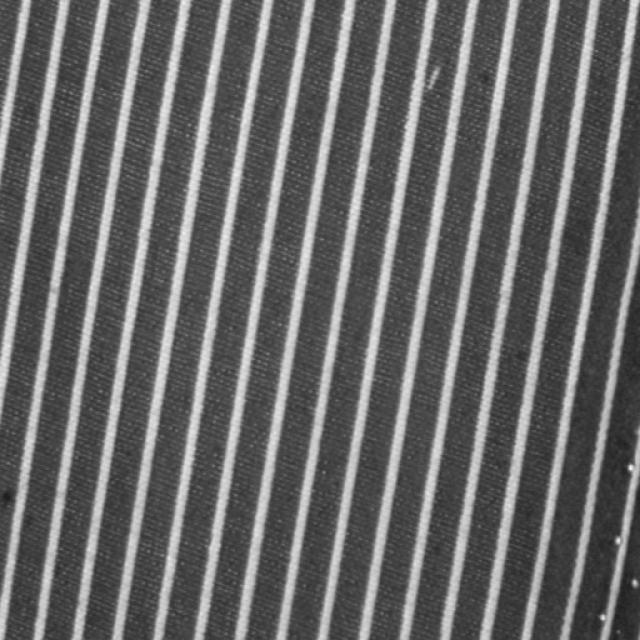Hole-Defect: (598, 412, 639, 639), (424, 61, 445, 96)
